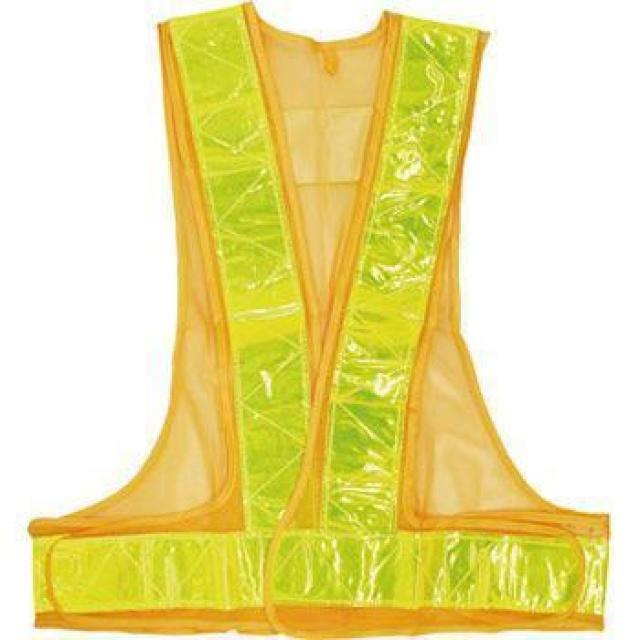Vest: (26, 11, 610, 638)
